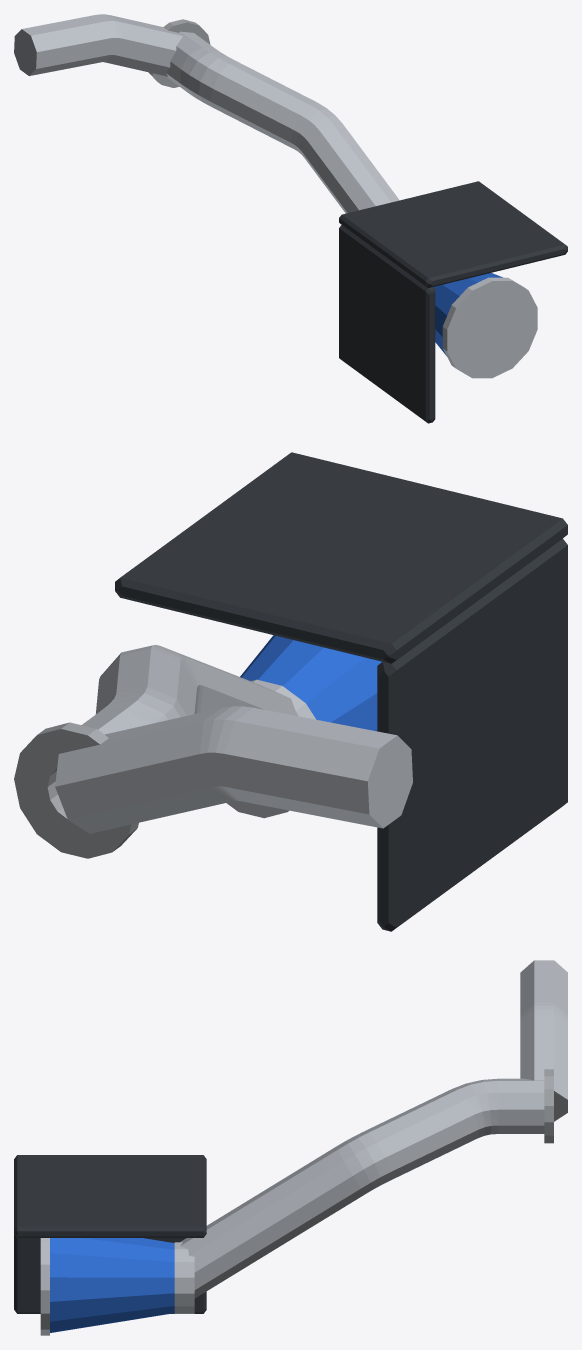
The model's file is brute_500.glb.
3 renders of one model, top to bottom at view 1: azimuth 30°, elevation 25°; view 2: azimuth 150°, elevation 25°; view 3: azimuth 270°, elevation 25°, orthographic. The views are drawn at different scales.
Parts seen in each view (by area): view 1: model; view 2: model; view 3: model.
Part boxes in pixels (x1,y1,x2,y2): model: (14, 14, 567, 423); model: (14, 452, 567, 931); model: (14, 960, 567, 1335).
Size of the model in its own units: 0.4615 by 0.3695 by 0.6896.
Materials: 2 (1 with a texture image).
